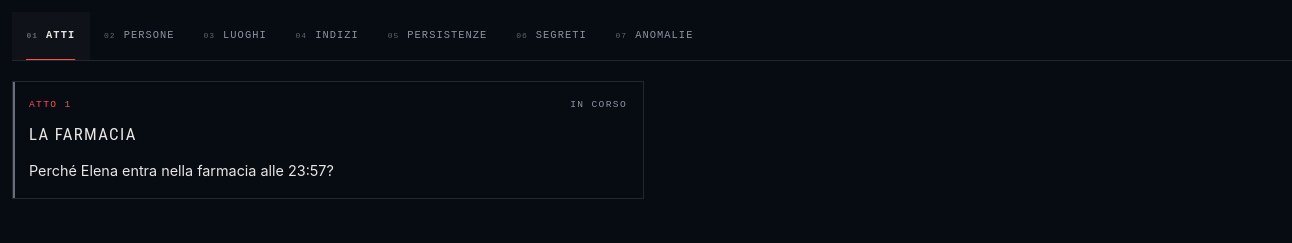
it: ArchiveTabs › mostra titolo, testo e luogo di una anomalia scoperta senza rivelare totali
This screenshot has width=1292, height=243.
Click the tab "07 Anomalie": click(654, 36) [601,12,708,60]
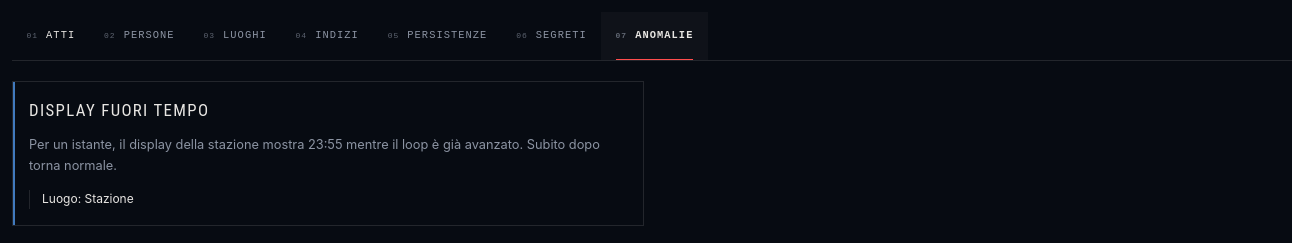
Check: the heading "Display fuori tempo" is shown, box [29,98,209,123]
Check: the list item "Luogo: Stazione" is shown, box [29,190,627,209]
Check: the text "il display della stazione mostra 23:55" is shown, box [29,137,600,173]
